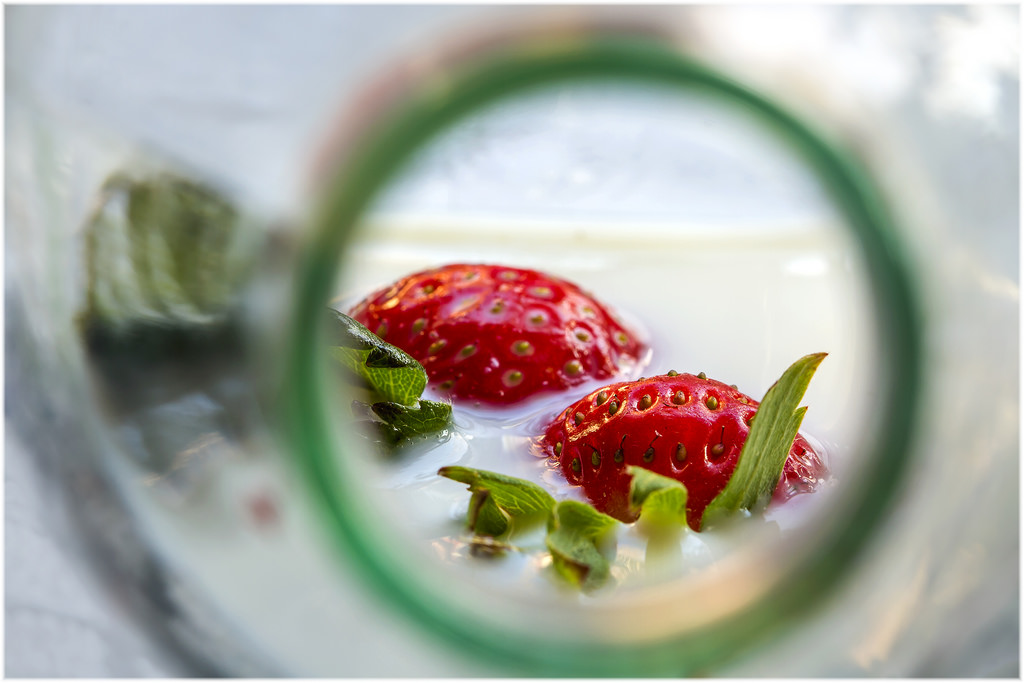glass of milk: (550, 202, 840, 400)
